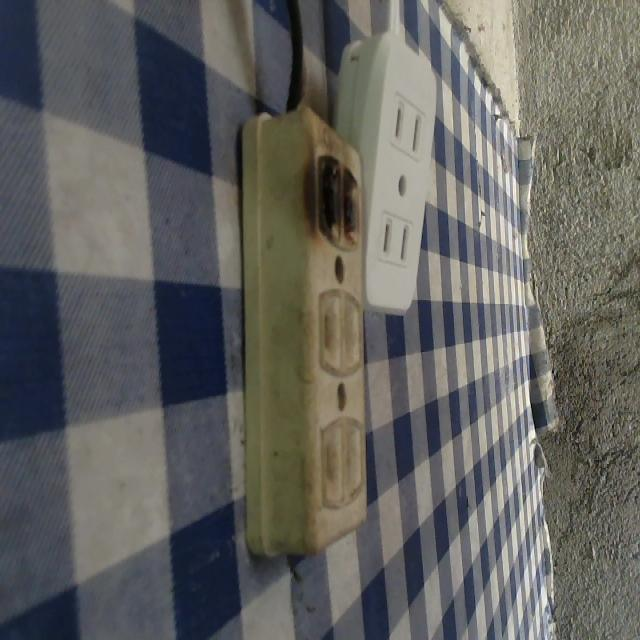-: (301, 142, 375, 254)
